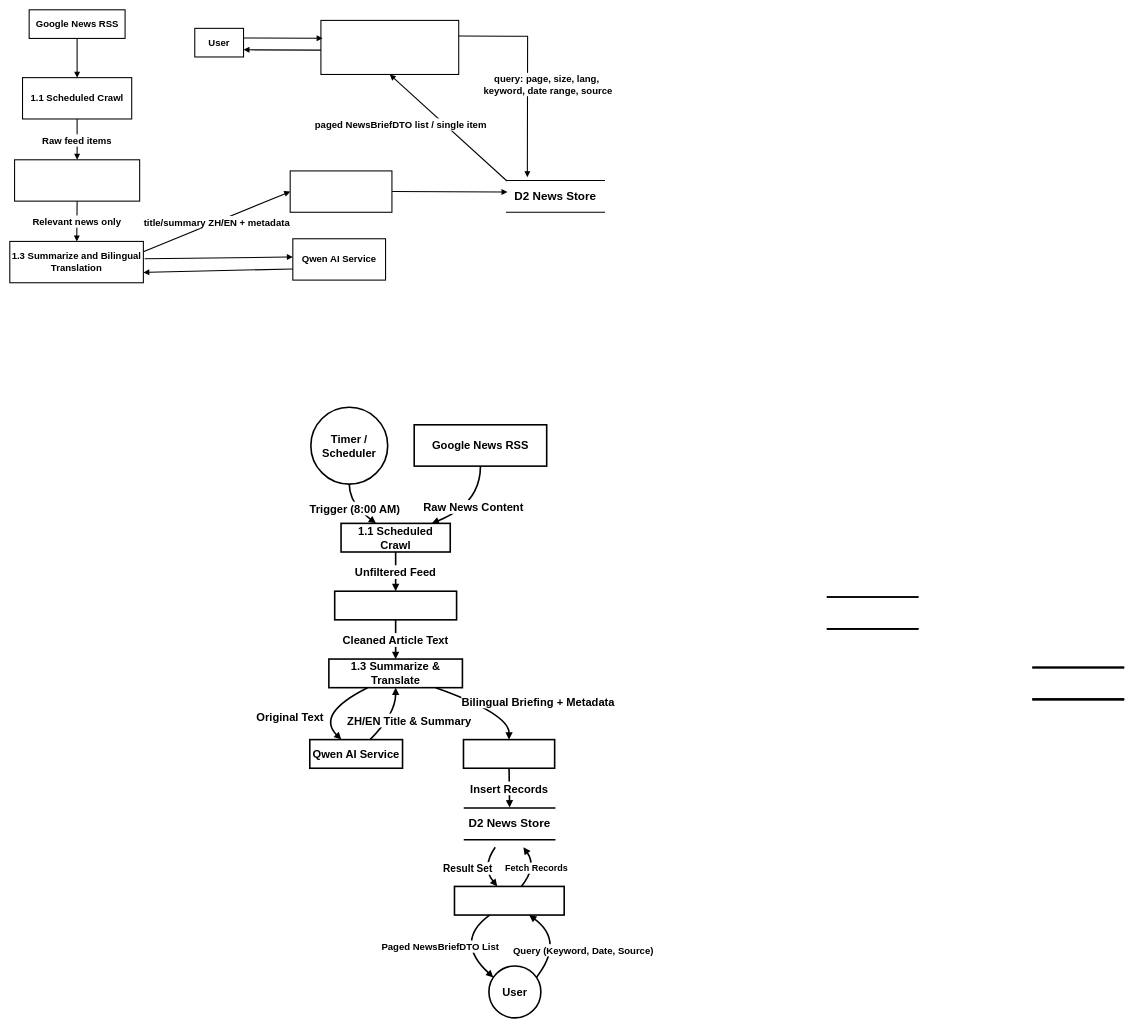
Image size: 1133x1028. Some labels were removed from this diagram. The shapes that lost their labels are listed below. From the top down, each one's centre as x and y in pixels, then its label:
At pixel 389 47: "1.5 Browse / Search Briefing".
At pixel 77 180: "1.2 Filter Relevant News".
At pixel 340 191: "1.4 Store Briefings".
At pixel 395 605: "1.2 Filter & Pre-process".
At pixel 508 754: "1.4 Persist Data".
At pixel 509 900: "1.5 Browse & Search".
